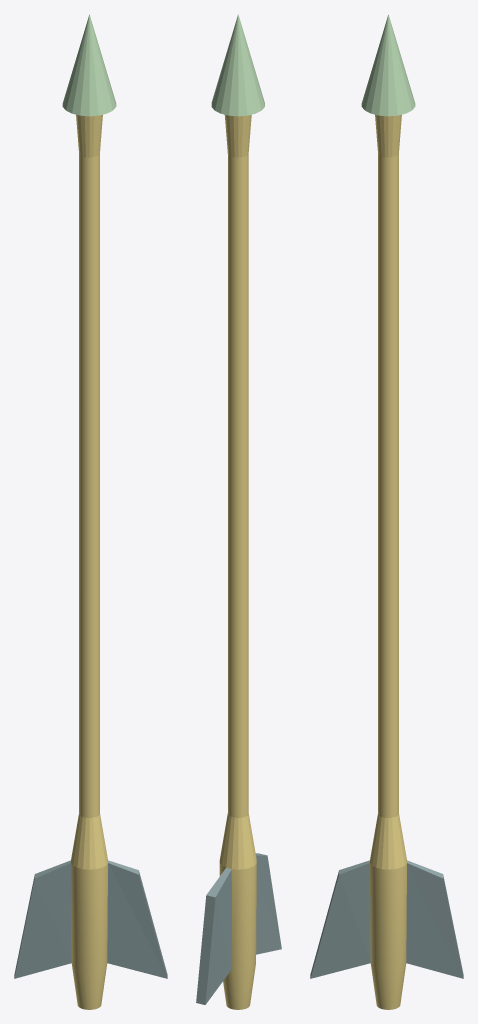
Rendered from Arrow.FBX.
3 renders of one model, left to right at view 1: azimuth 90°, elevation 25°; view 2: azimuth 150°, elevation 25°; view 3: azimuth 270°, elevation 25°, orthographic.
Parts seen in each view (by area): view 1: Cylinder001; view 2: Cylinder001; view 3: Cylinder001.
Part boxes in pixels (left/top/right/bottom): Cylinder001: left=14, top=14, right=167, bottom=1009; Cylinder001: left=196, top=14, right=281, bottom=1009; Cylinder001: left=310, top=14, right=463, bottom=1009.
Size of the model in its own units: 3.37 by 67.9 by 9.5.
